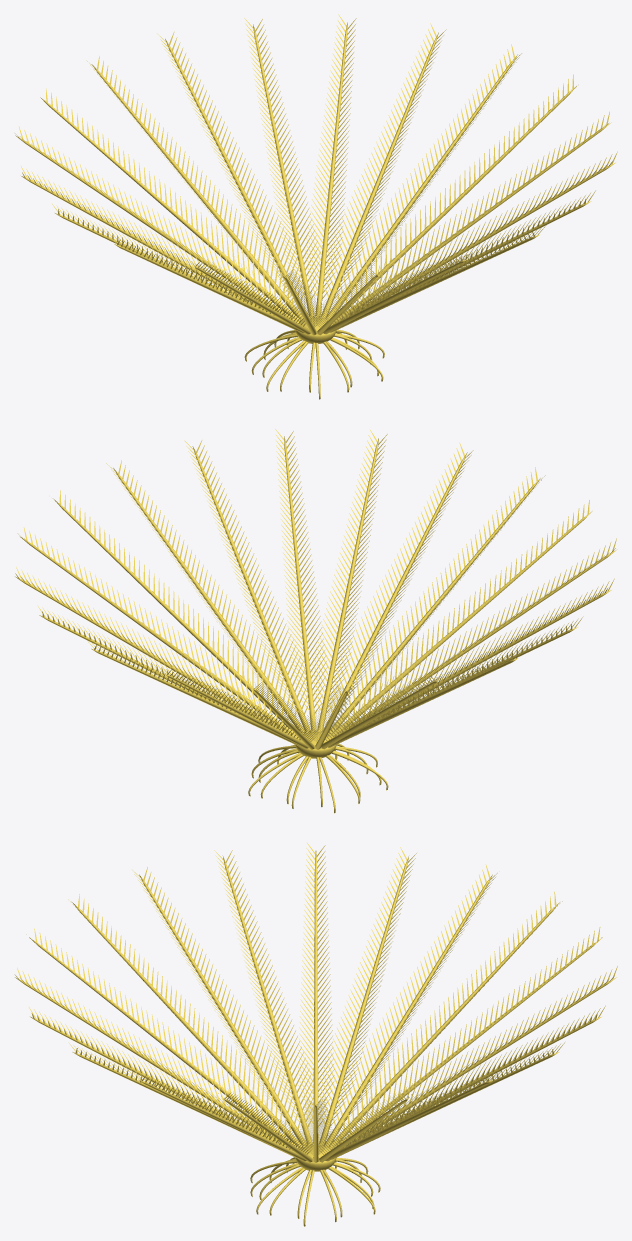
Rendered from crinoid_feather_star_twenty.glb.
3 renders of one model, top to bottom at view 1: azimuth 30°, elevation 25°; view 2: azimuth 150°, elevation 25°; view 3: azimuth 270°, elevation 25°, orthographic.
Parts seen in each view (by area): view 1: crinoid_feather_star_twenty; view 2: crinoid_feather_star_twenty; view 3: crinoid_feather_star_twenty.
Boxes of the visible parts, bbox=[...] form: crinoid_feather_star_twenty: bbox=[15, 14, 617, 399]; crinoid_feather_star_twenty: bbox=[15, 429, 617, 813]; crinoid_feather_star_twenty: bbox=[14, 843, 617, 1226].
Bounding box in the file's own units: 0.2461 × 0.1023 × 0.2461.
